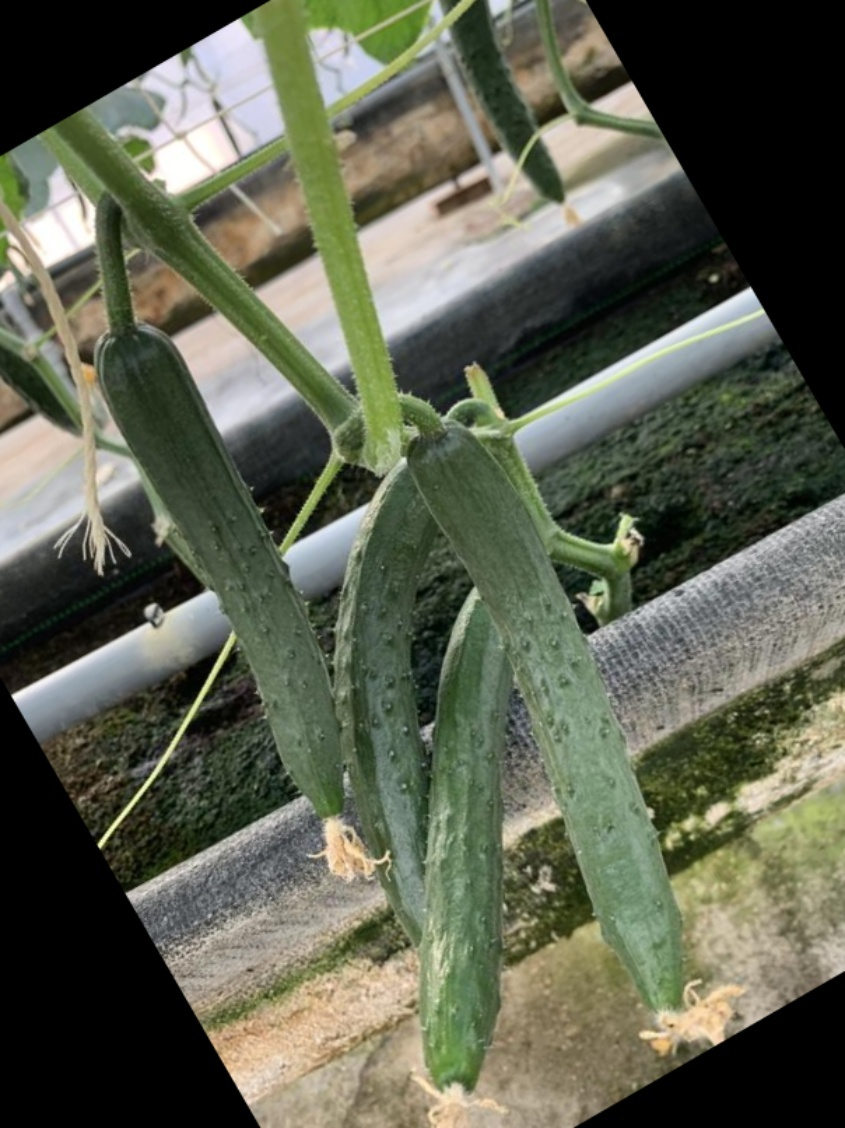mature: (374, 518, 522, 1111)
